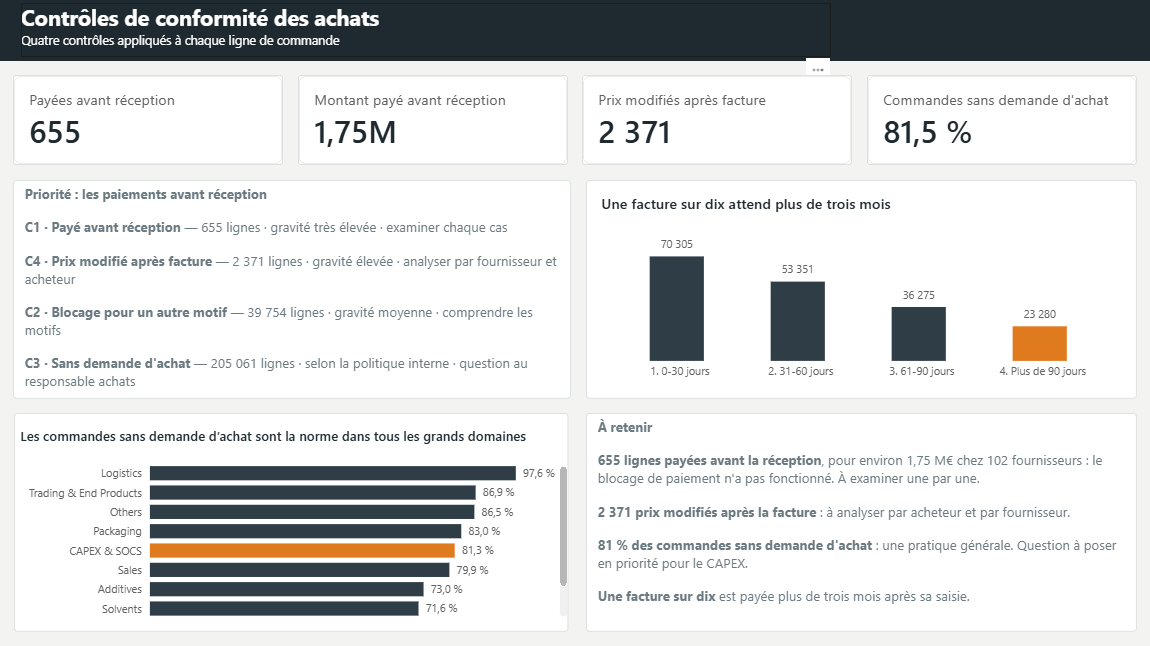

This screenshot's page, from the dashboard's own definition file:
{"tool":"powerbi","page":{"name":"Contrôles de conformité","canvas":[1280,720],"ordinal":2},"visuals":[{"type":"shape","box":[0,0,1280,70],"z":0},{"type":"textbox","box":[24,5,900,60],"z":1000},{"type":"cardVisual","fields":{"Data":["controles.C1 Lignes"]},"box":[16,86,300,100],"z":2000},{"type":"cardVisual","fields":{"Data":["controles.C1 Montant"]},"box":[332,86,300,100],"z":3000},{"type":"cardVisual","fields":{"Data":["controles.C4 Lignes"]},"box":[648,86,300,100],"z":4000},{"type":"cardVisual","fields":{"Data":["controles.C3 Part"]},"box":[964,86,300,100],"z":5000},{"type":"textbox","box":[15.6,202.2,620,243.3],"z":6000},{"type":"clusteredColumnChart","title":"Une facture sur dix attend plus de trois mois","fields":{"Category":["controles.tranche_delai_paiement"],"Y":["controles.Lignes"]},"box":[652,202,612,243],"z":7000},{"type":"clusteredBarChart","title":"Les commandes sans demande d’achat sont la norme dans tous les grands domaines","fields":{"Category":["controles.domaine_achat"],"Y":["controles.C3 Part"]},"box":[16.7,461.1,615.6,243.3],"z":8000},{"type":"textbox","box":[652,461,612,243],"z":9000}]}

Visuals, with their boxes in screenshot pixels (x1, y1, x2, y2), scaled from the page's 1280x720 canvas onto the 1150x646 screenshot:
shape: (0, 0, 1149, 63)
textbox: (22, 4, 830, 58)
cardVisual - controles.C1 Lignes: (14, 77, 284, 167)
cardVisual - controles.C1 Montant: (298, 77, 568, 167)
cardVisual - controles.C4 Lignes: (582, 77, 852, 167)
cardVisual - controles.C3 Part: (866, 77, 1136, 167)
textbox: (14, 181, 571, 400)
"Une facture sur dix attend plus de trois mois" clusteredColumnChart: (586, 181, 1136, 399)
"Les commandes sans demande d’achat sont la norme dans tous les grands domaines" clusteredBarChart: (15, 414, 568, 632)
textbox: (586, 414, 1136, 632)
